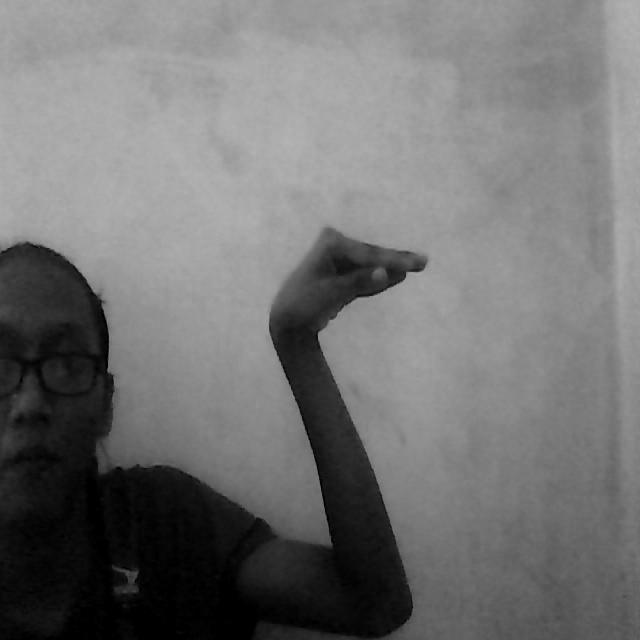Z: (250, 206, 447, 640)
